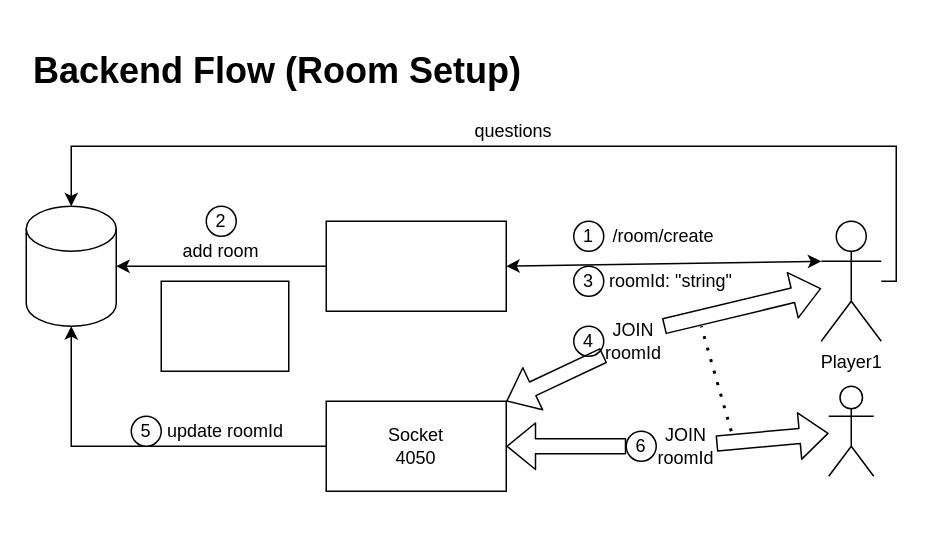
Image size: 935x533. Some labels were removed from this diagram. Here are the shapes that lost their labels. From the top down, the centre of each, then its label:
(70,265): Firestore
(415,265): REST 4000
(224,325): creator gameType rounds
(850,430): Player2
